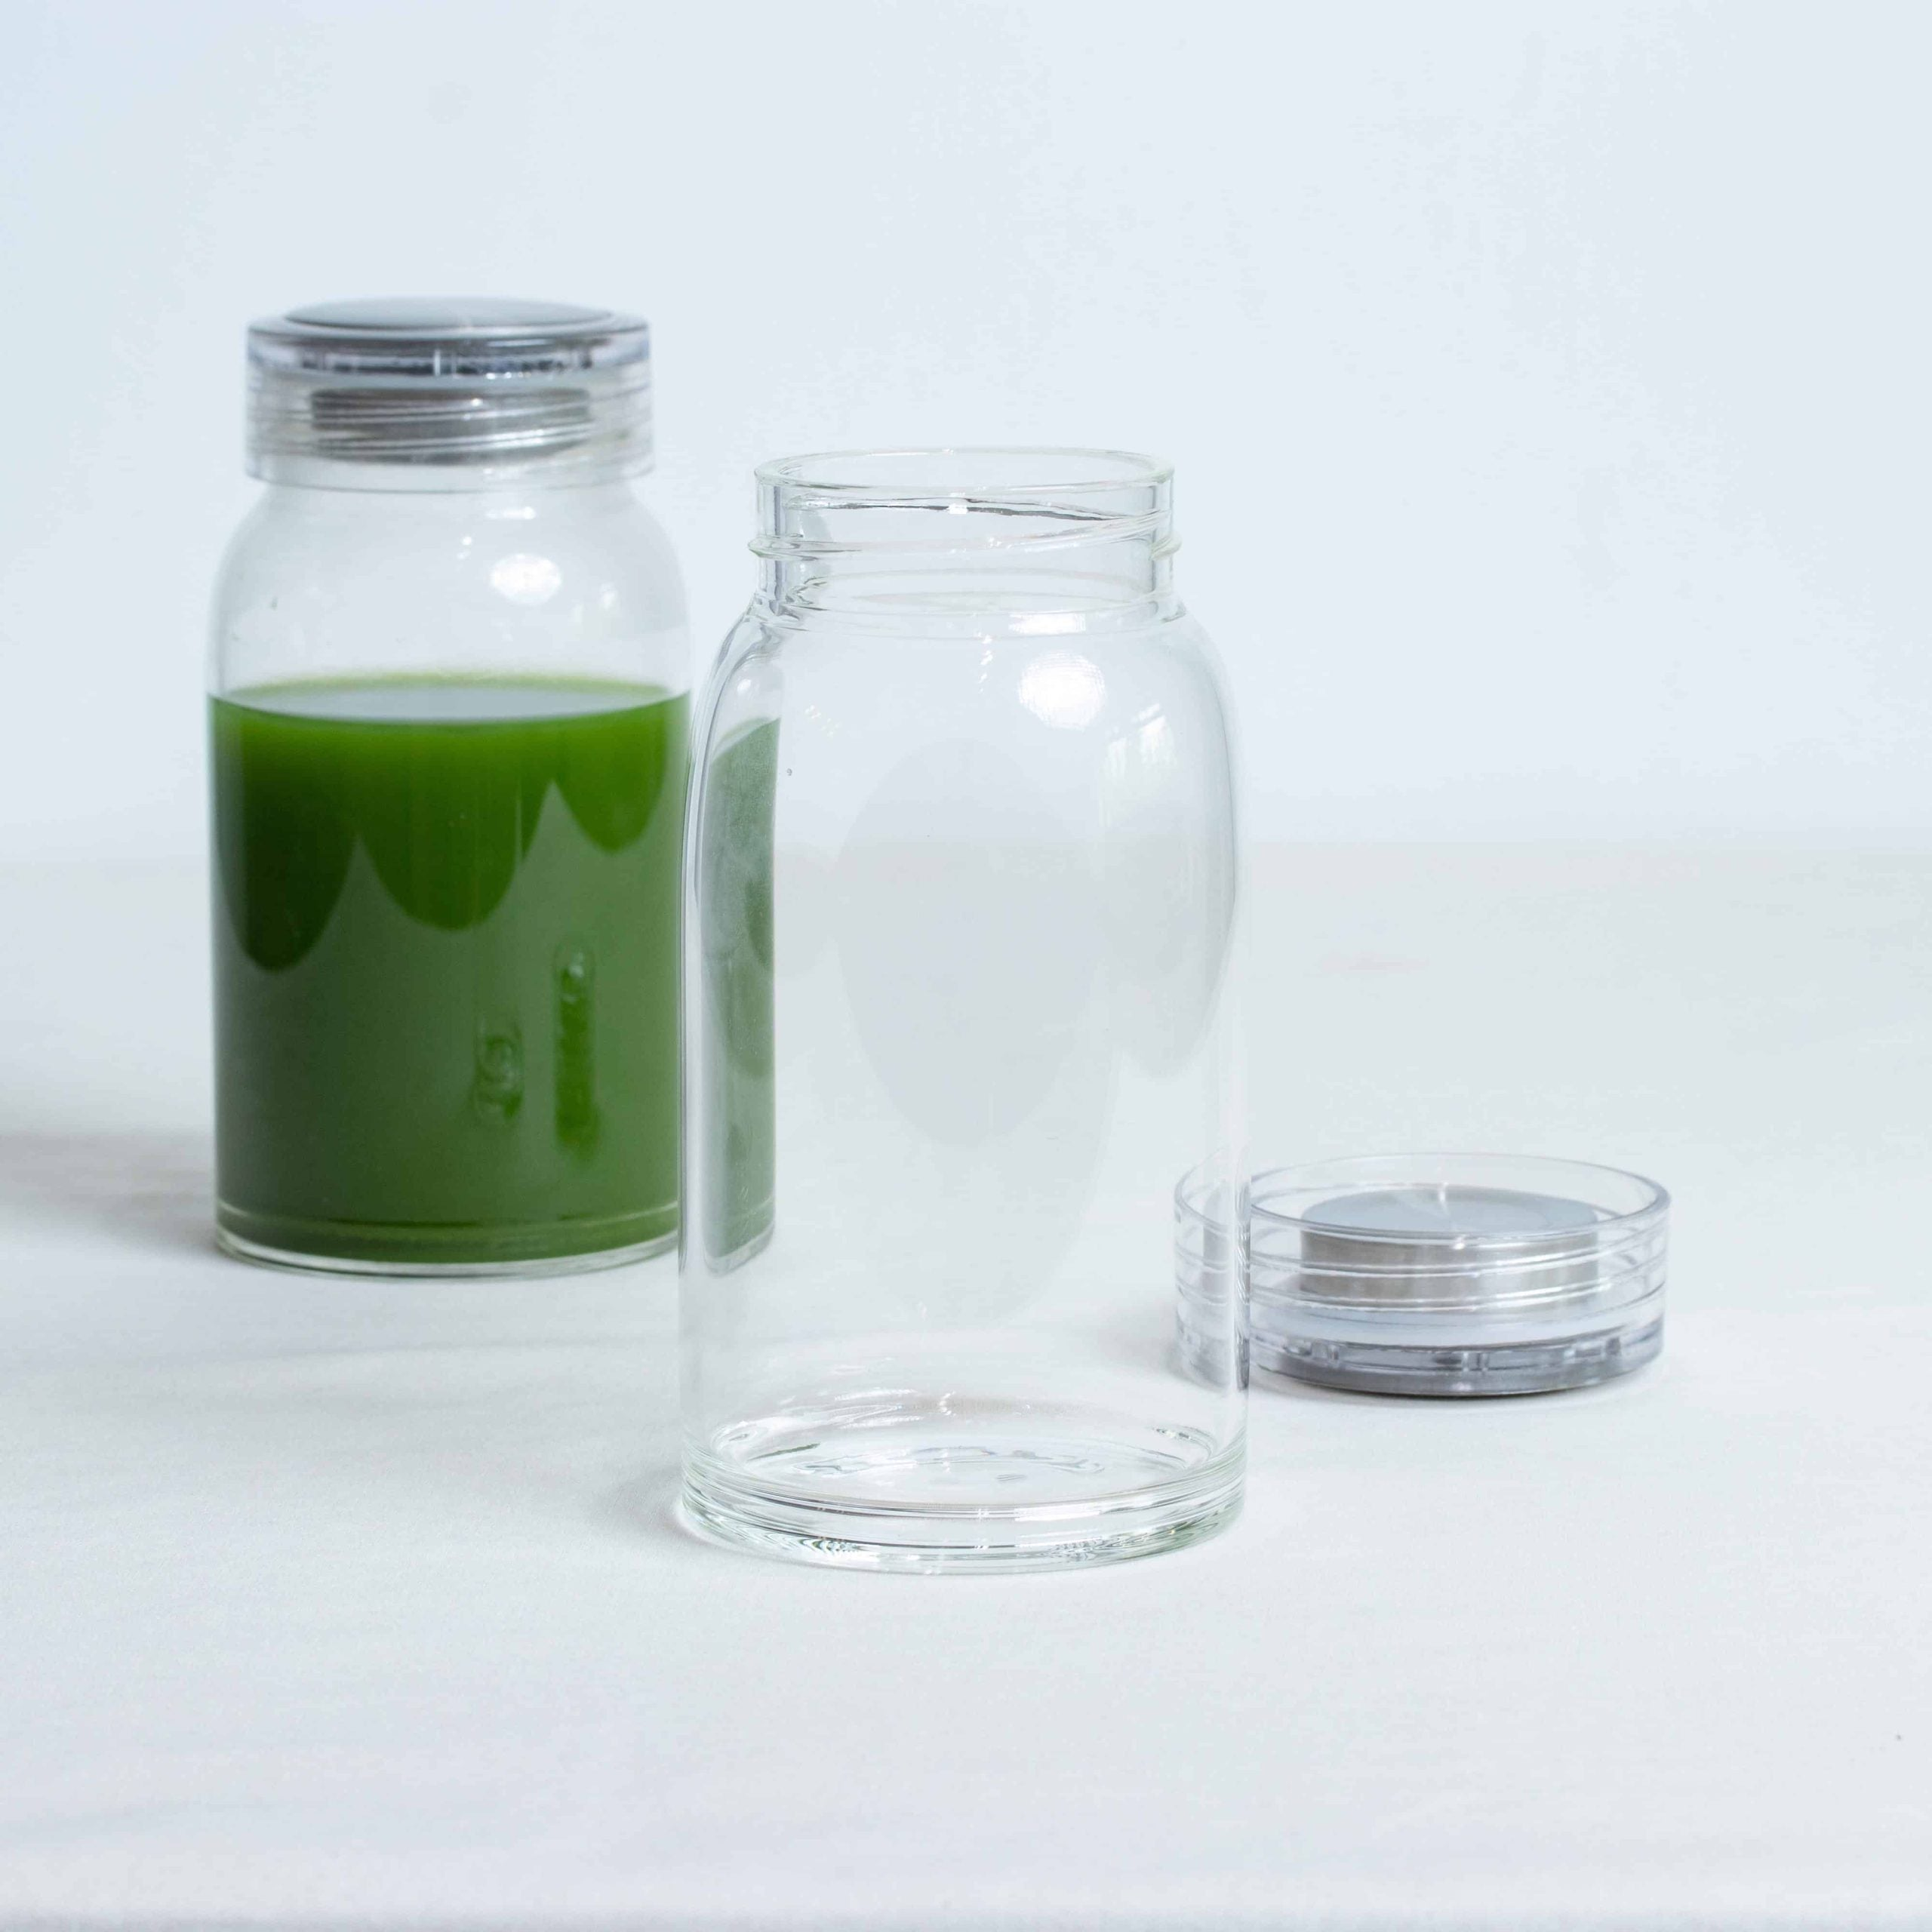glass_bottle: (697, 356, 1246, 1582), (175, 257, 692, 1279)
